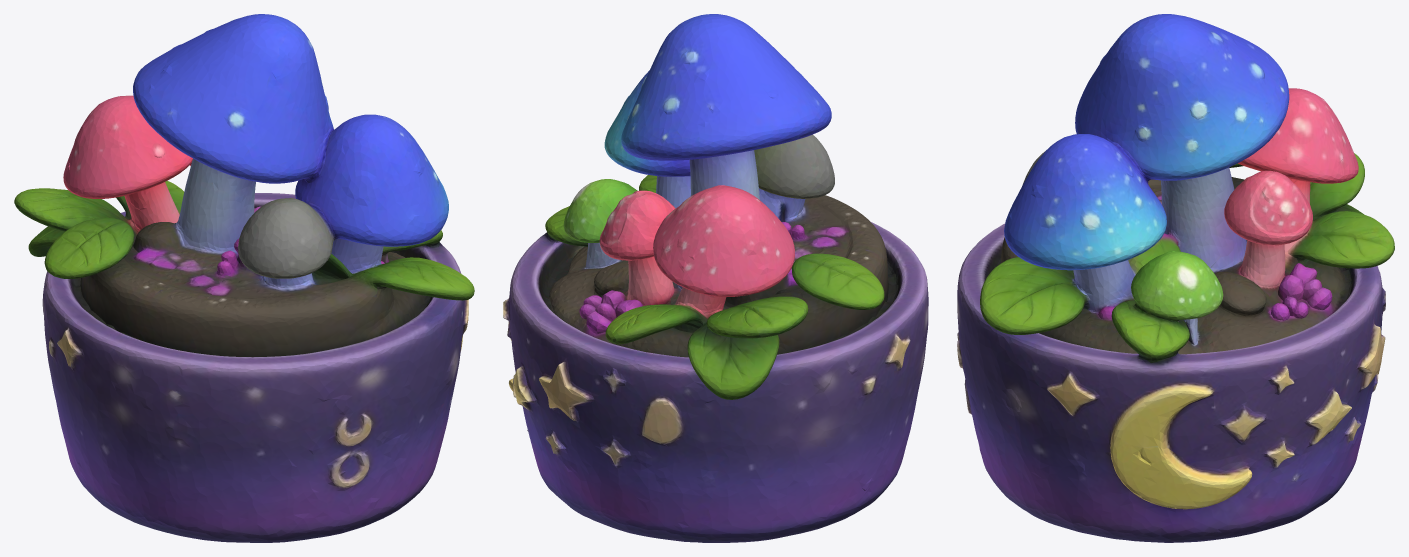
Rendered from flower_12.glb.
3 renders of one model, left to right at view 1: azimuth 30°, elevation 25°; view 2: azimuth 150°, elevation 25°; view 3: azimuth 270°, elevation 25°, orthographic.
Parts seen in each view (by area): view 1: tripo_node_696f44c8-454c-4ab8-83b2-440821ef17c0; view 2: tripo_node_696f44c8-454c-4ab8-83b2-440821ef17c0; view 3: tripo_node_696f44c8-454c-4ab8-83b2-440821ef17c0.
Part boxes in pixels (x1,y1,x2,y2): tripo_node_696f44c8-454c-4ab8-83b2-440821ef17c0: (14, 14, 474, 542); tripo_node_696f44c8-454c-4ab8-83b2-440821ef17c0: (503, 14, 928, 542); tripo_node_696f44c8-454c-4ab8-83b2-440821ef17c0: (957, 14, 1394, 542).
Bounding box in the file's own units: 0.8651 × 0.9996 × 0.8684.
Materials: 1 (1 with a texture image).
